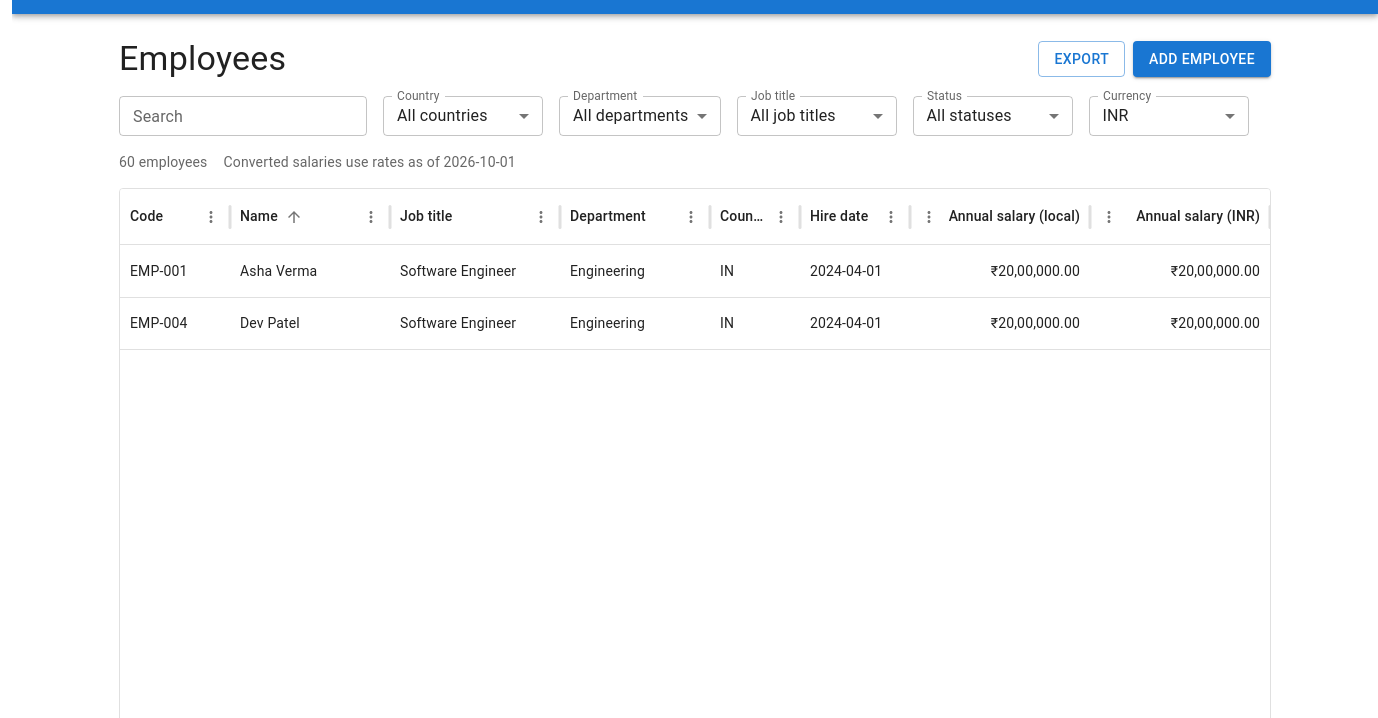
employees list page › links to the create form
This screenshot has width=1378, height=718.
Click the link "Add employee". click: [1202, 59]
box: [1133,41,1271,77]
(page scrolled)
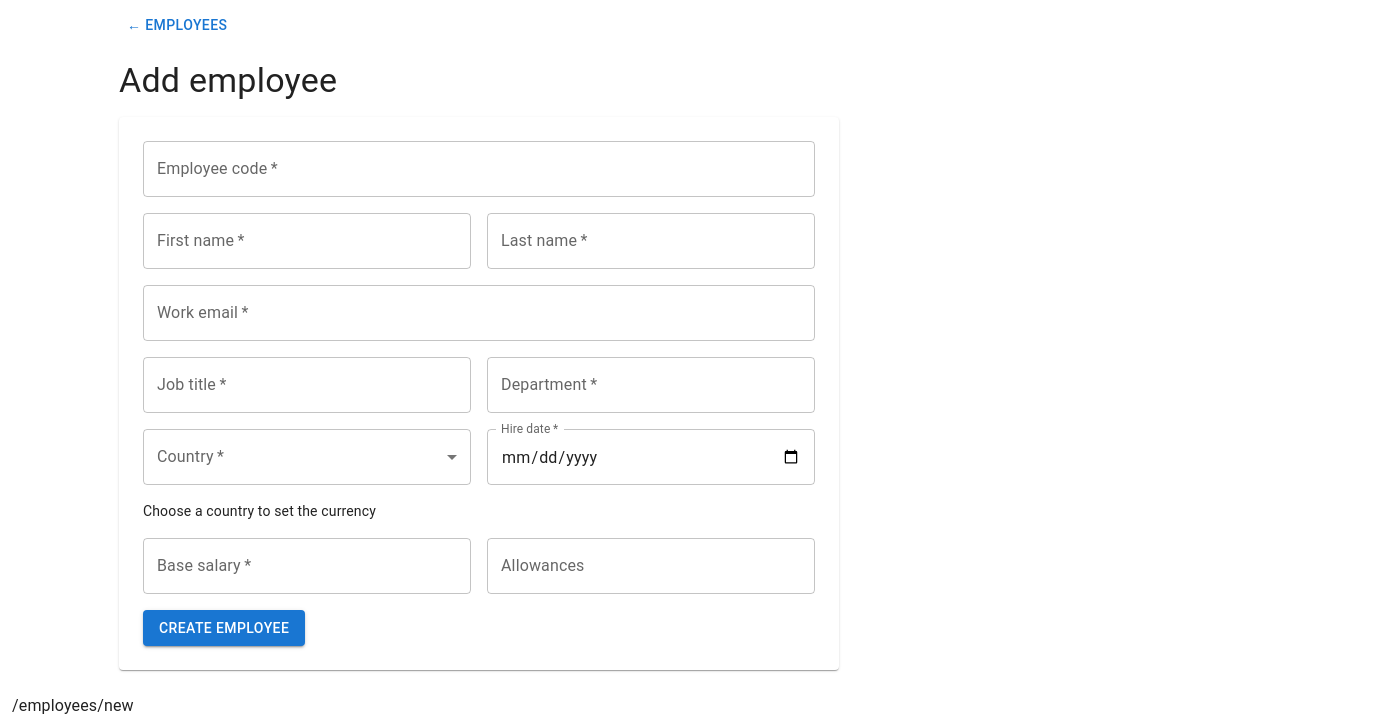
Now the text with test id "location" reads "/employees/new", box [12,696,134,715]
